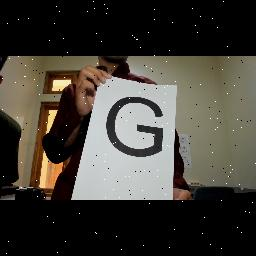g: (102, 92, 166, 160)
